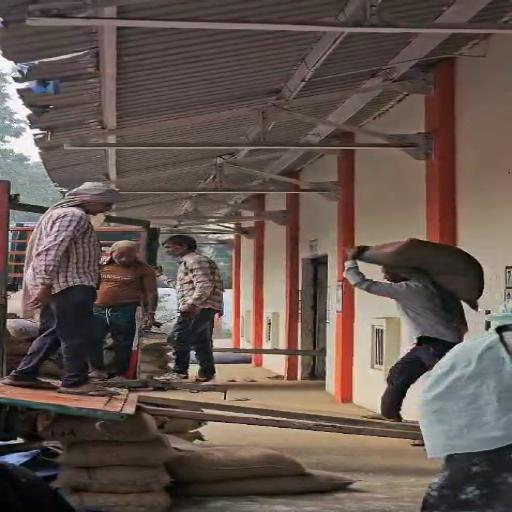bag: (352, 234, 491, 309)
